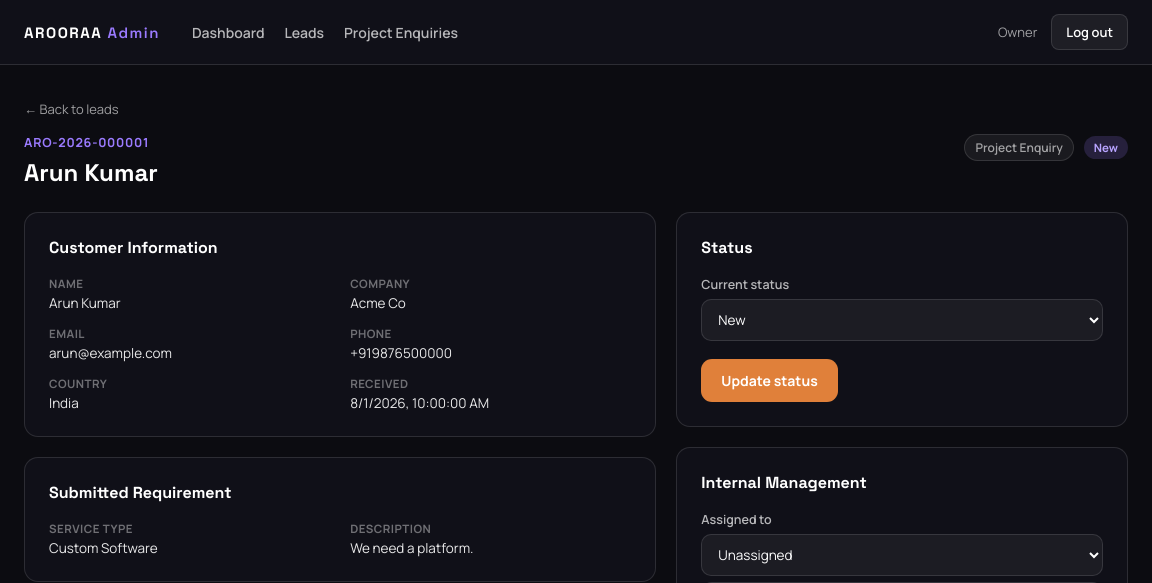
AdminLeadDetailPage › requires a lost reason when marking a lead LOST
Expected: the text "ARO-2026-000001" is shown, [24,134,158,151]
Select "Lost" in the dropdown labelled "Current status" at x=902, y=320, box [701,299,1103,341]
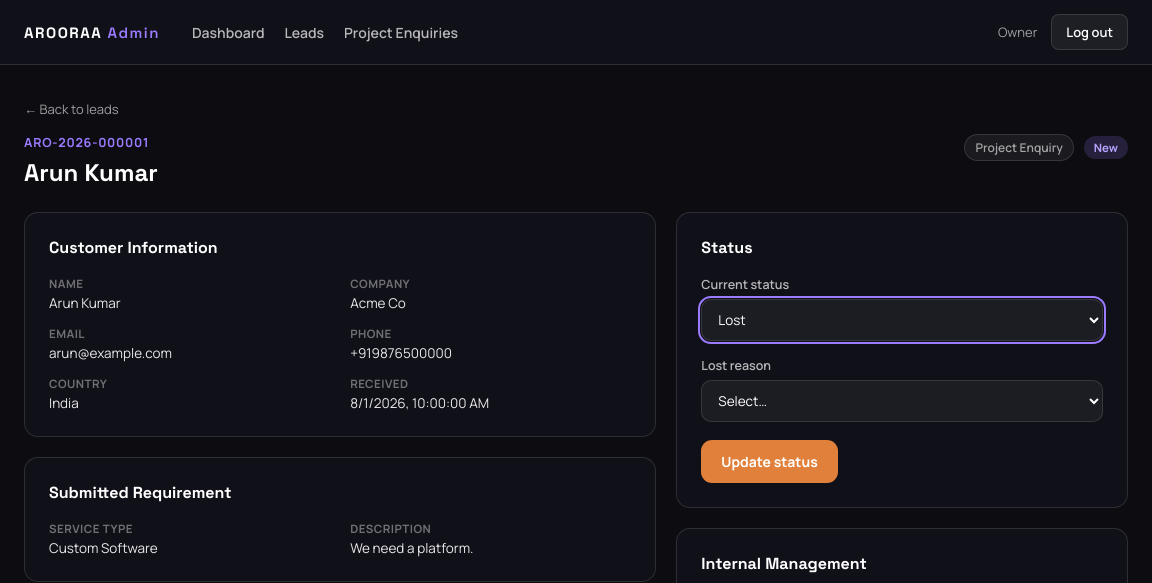
Click the button "Update status" at x=770, y=462, box [701,440,838,483]
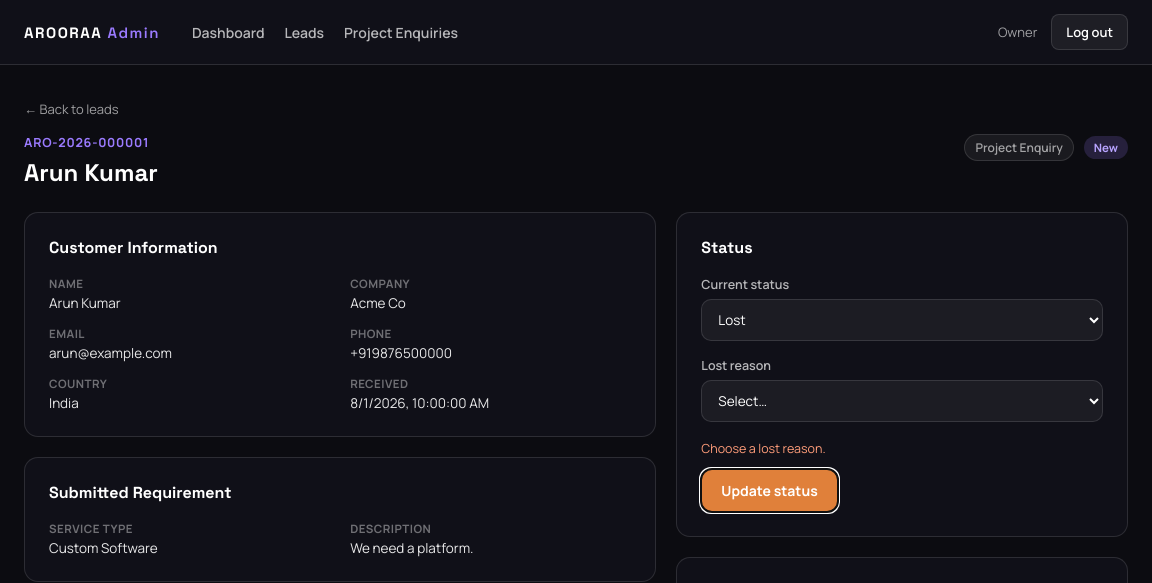
Now the text "Choose a lost reason." is shown, box [701,440,826,457]
